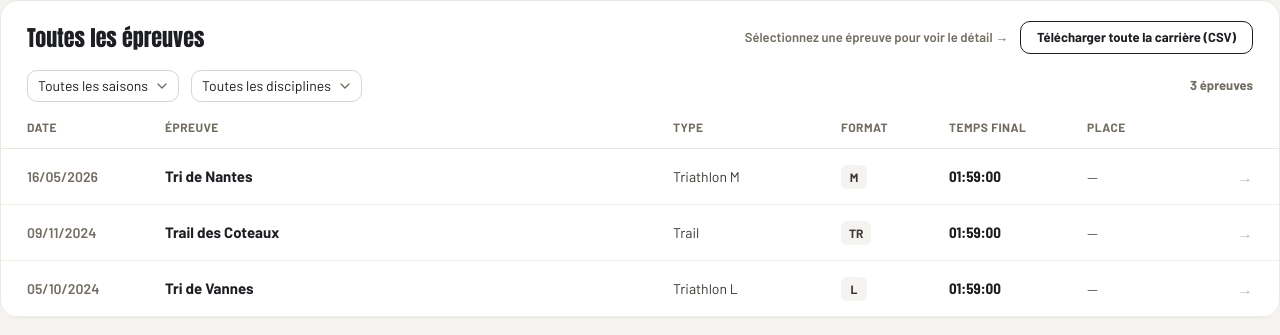
EventsTable › propose une entrée par saison représentée, la plus récente d'abord
Step 1. Click the dropdown labelled "Toutes les saisons ▼" → (103, 86), box x1=27 y1=70 x2=179 y2=102
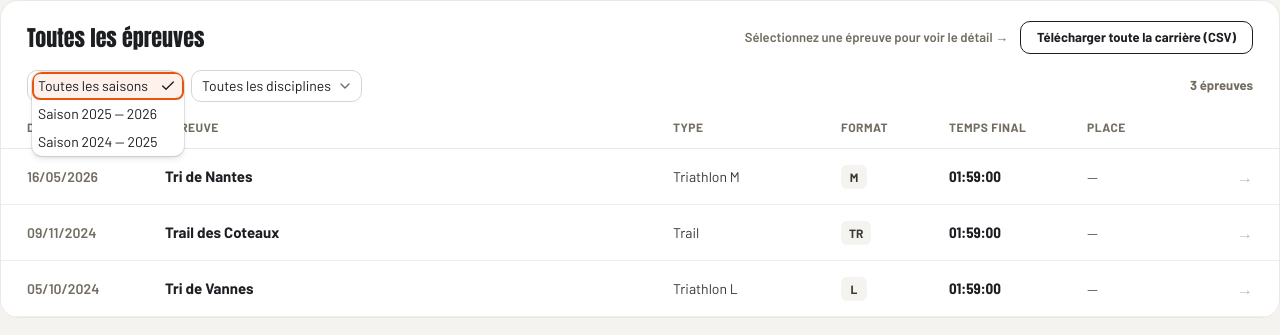
Check: the options read "Toutes les saisons", "Saison 2025 — 2026", "Saison 2024 — 2025", in this order, box x1=32 y1=72 x2=184 y2=100; x1=38 y1=105 x2=157 y2=122; x1=38 y1=133 x2=158 y2=150
